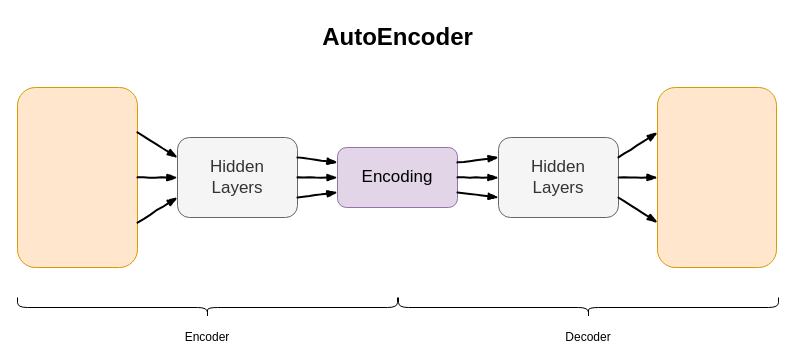
Some shapes in this 796 by 364 pixel diagram are drawn without their labels. Here are the shapes that lost their labels. From the top down, the box of each, then its label:
(16, 86, 138, 268): Original Input Features
(656, 86, 776, 268): Reconstructed Input Features
